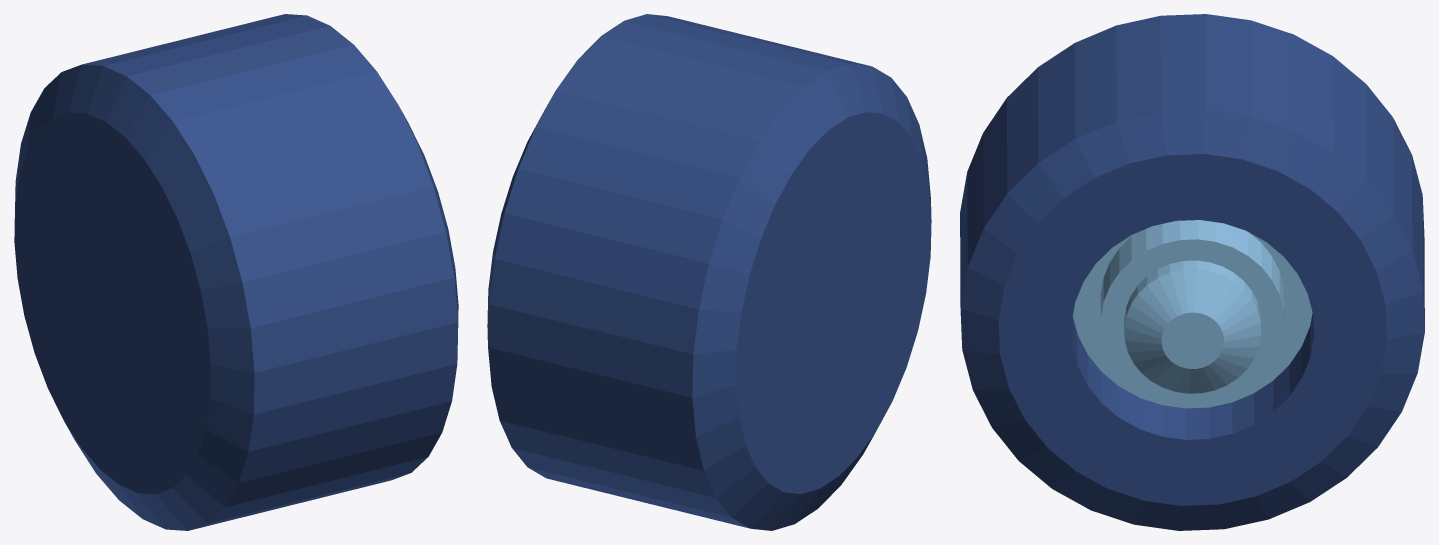
File: wheel.fbx
3 views of the same model, side by side, from view 1: azimuth 30°, elevation 25°; view 2: azimuth 150°, elevation 25°; view 3: azimuth 270°, elevation 25° (orthographic). The views are drawn at different scales.
Parts seen in each view (by area): view 1: wheel; view 2: wheel; view 3: wheel.
Boxes of the visible parts, x1,y1,x2,y2 form: wheel: (14,14,458,530); wheel: (487,14,931,530); wheel: (960,14,1424,530).
Bounding box in the file's own units: 44.77 × 68.64 × 68.69.
